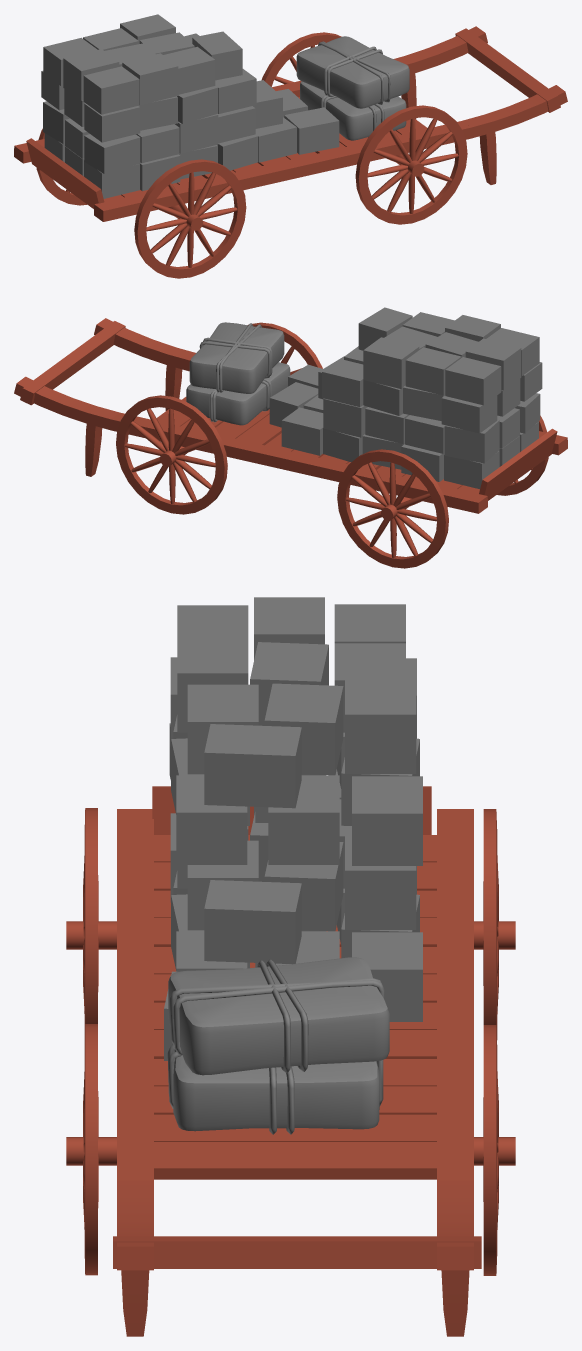
Rendered from SM_cart_wares_01.fbx.
3 views of the same model, one above another, from view 1: azimuth 30°, elevation 25°; view 2: azimuth 150°, elevation 25°; view 3: azimuth 270°, elevation 25° (orthographic). The views are drawn at different scales.
Visible parts, largest first — view 1: Object32454; view 2: Object32454; view 3: Object32454.
Boxes of the visible parts, x1,y1,x2,y2 form: Object32454: (14,14,567,278); Object32454: (14,307,567,568); Object32454: (66,597,515,1336).
Size of the model in its own units: 181 by 71.36 by 75.74.
